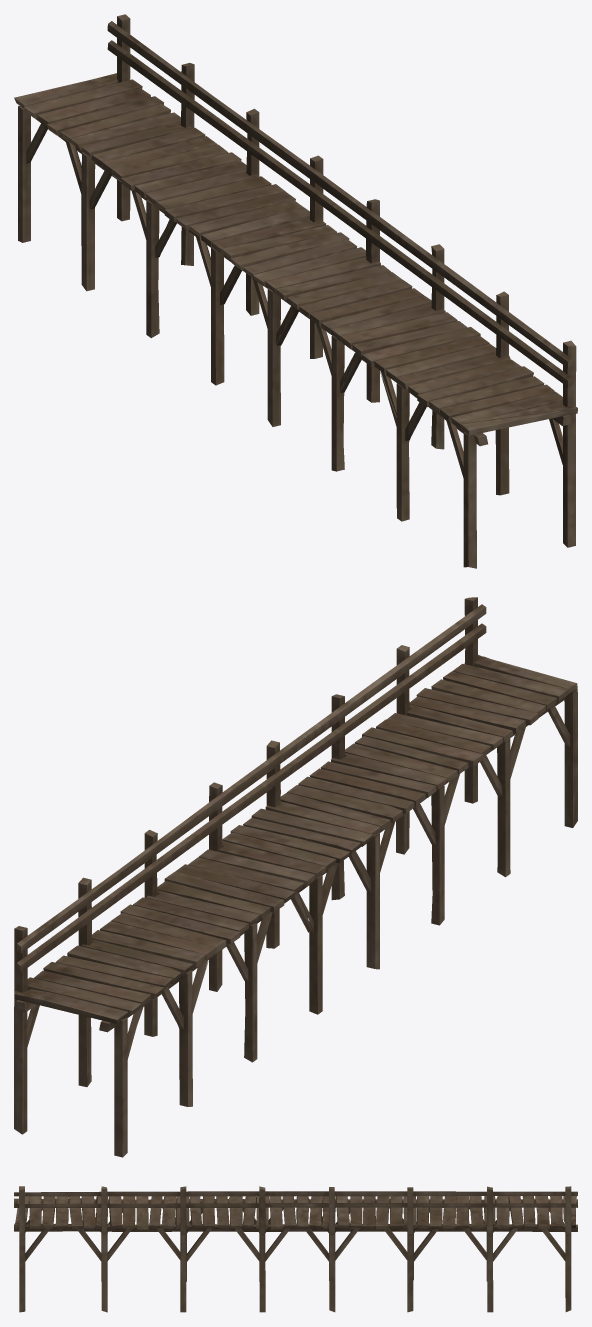
File: old-bridge.zfix-v14.lod1.glb
The picture shows the model from 3 angles, top to bottom: view 1: azimuth 30°, elevation 25°; view 2: azimuth 150°, elevation 25°; view 3: azimuth 270°, elevation 25°; orthographic projection. The views are drawn at different scales.
Visible parts, largest first — view 1: defaultMaterial; view 2: defaultMaterial; view 3: defaultMaterial.
Part boxes in pixels (bbox=[...]): defaultMaterial: bbox=[14, 14, 577, 568]; defaultMaterial: bbox=[14, 597, 577, 1157]; defaultMaterial: bbox=[14, 1186, 577, 1312].
Bounding box in the file's own units: 2.63 × 4.59 × 19.
1 material, 1 textured.
